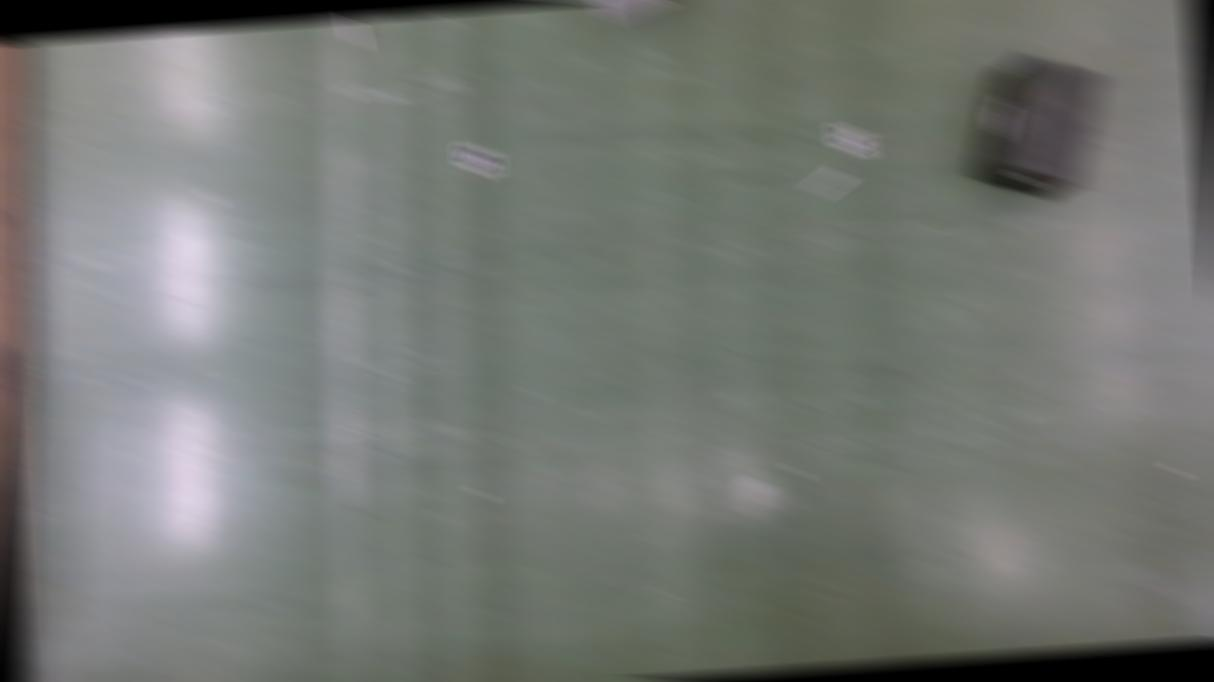probes: (806, 170, 850, 198), (340, 15, 363, 48)
rako: (961, 50, 1114, 206)
